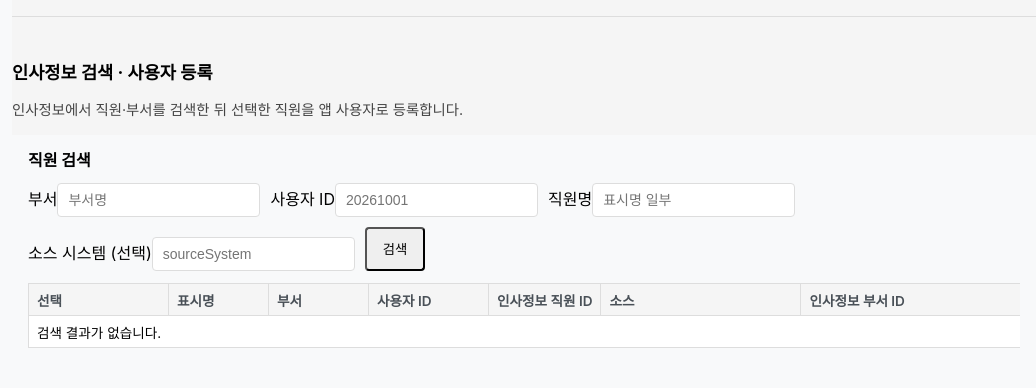
Test case: ExternalProvisioning (TC-F04) › provisioned row shows 등록됨 badge and disables selection for that row
What coordinates should you click on to do the following:
click the button with aria-label "직원 검색 실행"
I would click on:
 (395, 249)
Its box is [365, 227, 425, 271].
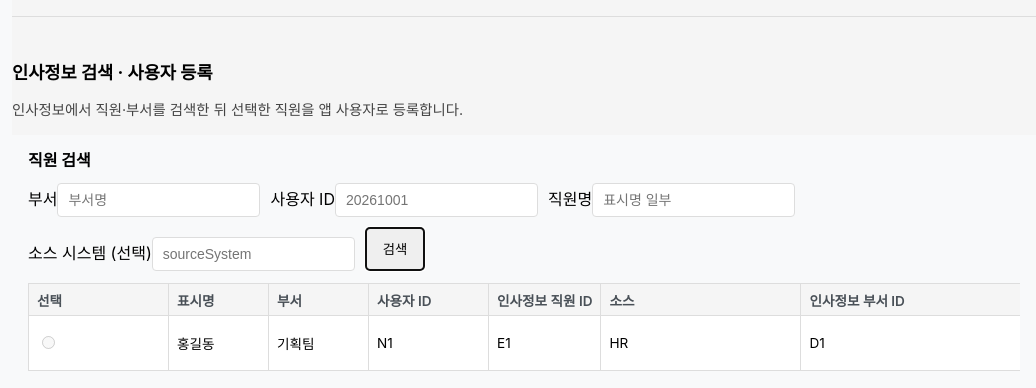
Result: the radio button named "이미 등록됨" is disabled at [42, 336, 55, 350]
